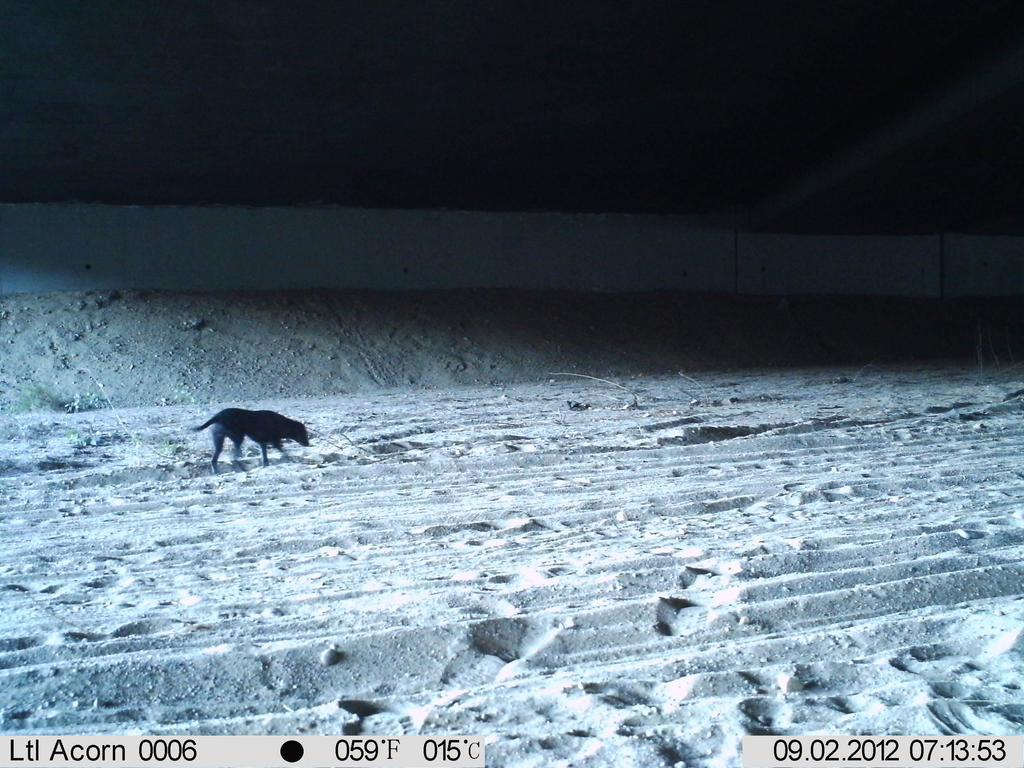dog: (183, 391, 325, 484)
